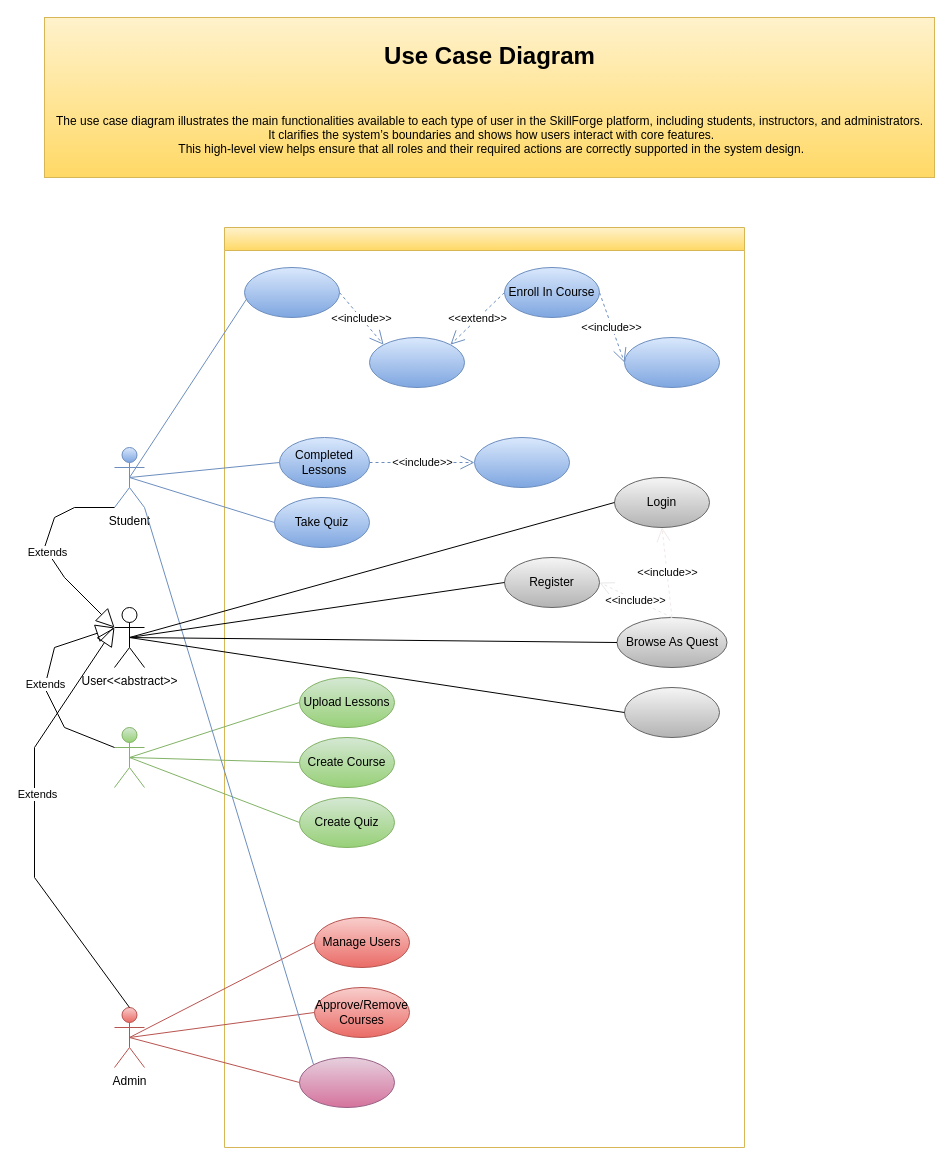
This 952x1165 diagram has some shape labels left out. Each missing label, with the box of its shape:
Access Content: (624, 336, 720, 388)
Browse Courses: (244, 266, 340, 318)
Earn Certificate: (474, 436, 570, 488)
Instructor: (114, 726, 144, 788)
Logout: (624, 686, 720, 738)
SkillForge: (224, 226, 744, 1148)
Track Analytics: (298, 1056, 394, 1108)
View Course Details: (368, 336, 464, 388)
